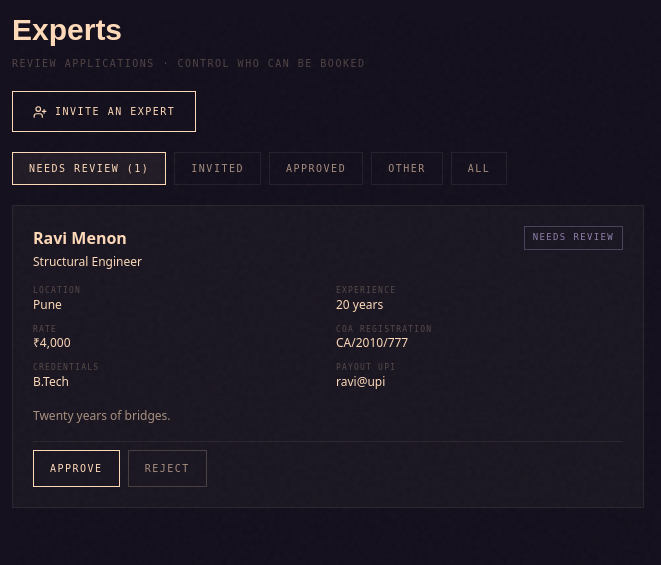
Admin / Experts › shows the error and leaves the expert where they were when saving fails
Click the button "APPROVE": click(76, 469) [33,450,120,488]
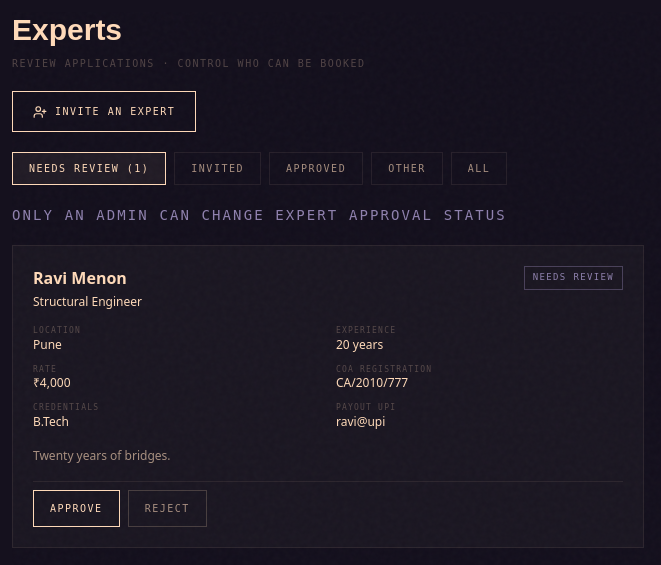
Expected: the heading "Ravi Menon" is shown, [33,266,142,290]
Expected: the message shows "Only an admin", [12,207,507,223]
